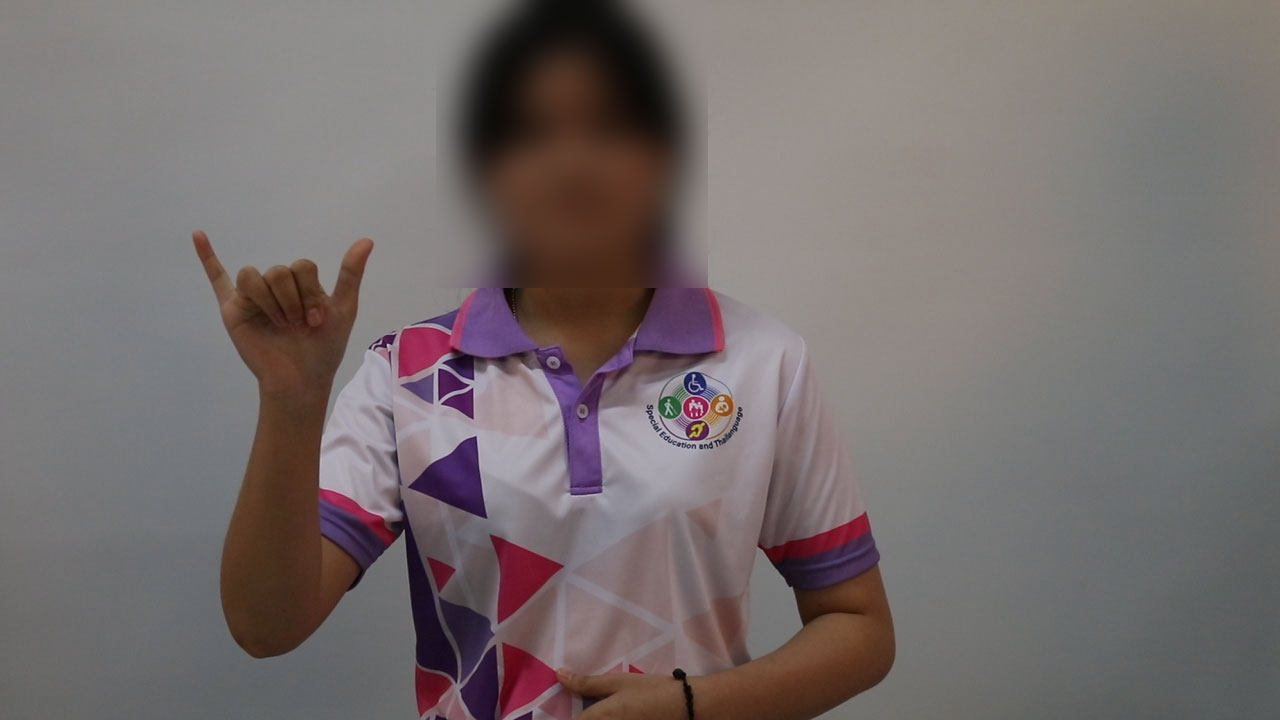yor: (172, 213, 389, 413)
